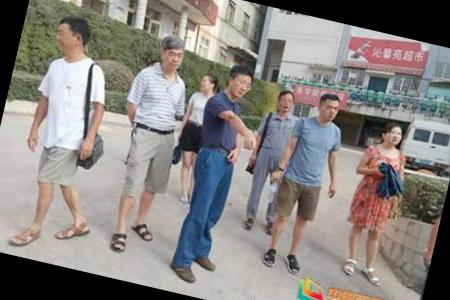no_helmet: (47, 10, 94, 60), (150, 30, 190, 74), (222, 60, 260, 102), (312, 89, 346, 126), (372, 117, 408, 150), (270, 85, 300, 117), (193, 70, 218, 97)
